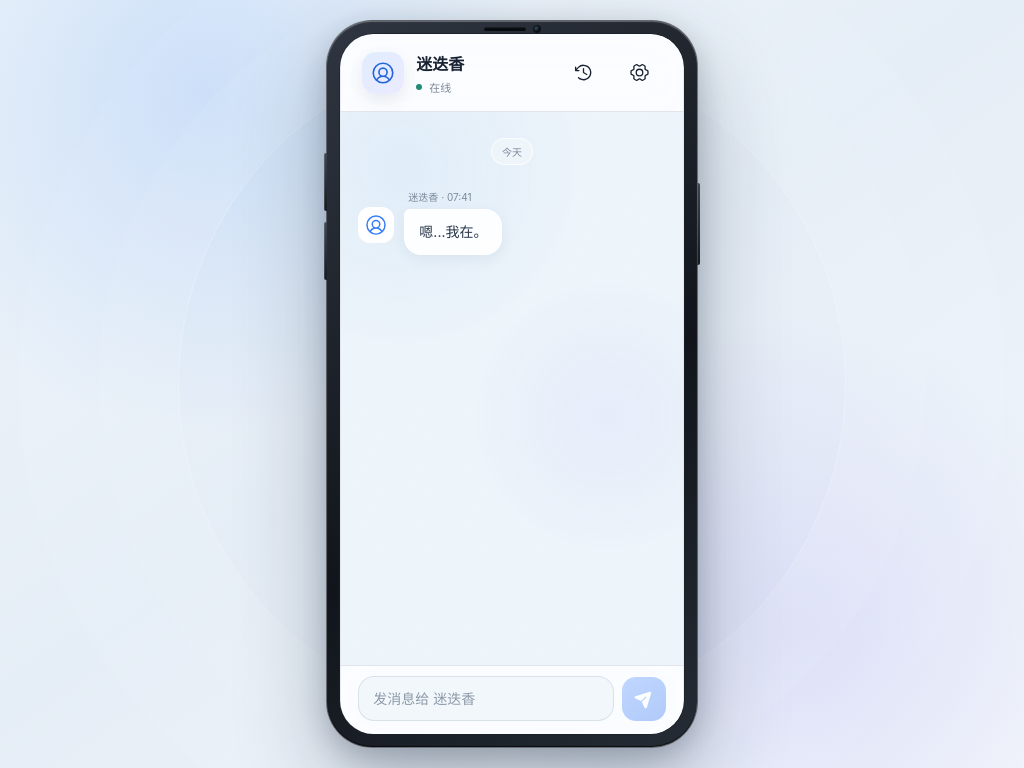
it: accessibility contracts › exposes every configuration area through one management center
Expected: the heading "迷迭香" is shown, [416,50,464,74]
What coordinates should you click on to do the following:
click the button named "打开管理中心"
I would click on:
 (640, 72)
Its box is [618,50,662,94].
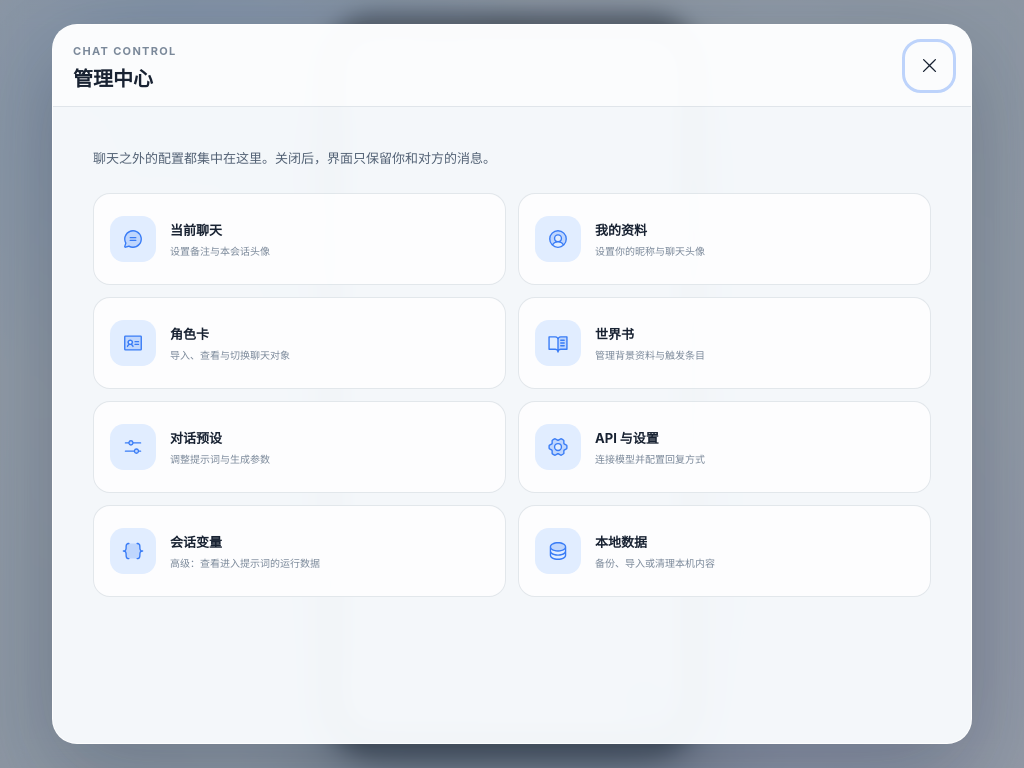
Now the button "角色卡 导入、查看与切换聊天对象" is shown, box [93,297,506,389]
Now the button "世界书 管理背景资料与触发条目" is shown, box [518,297,931,389]
Now the button "对话预设 调整提示词与生成参数" is shown, box [93,401,506,493]
